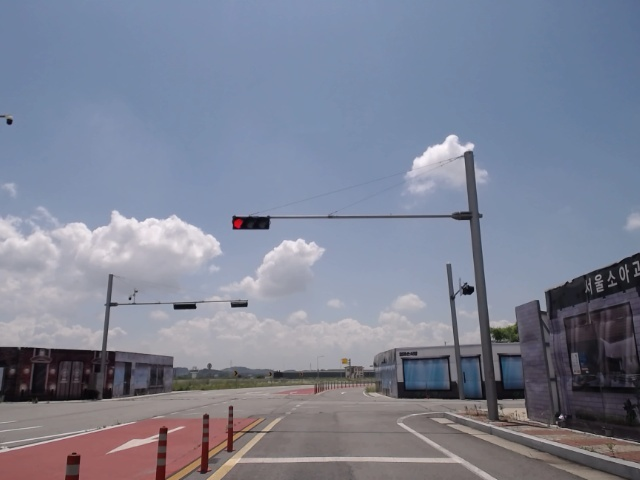red_3: (229, 216, 270, 230)
